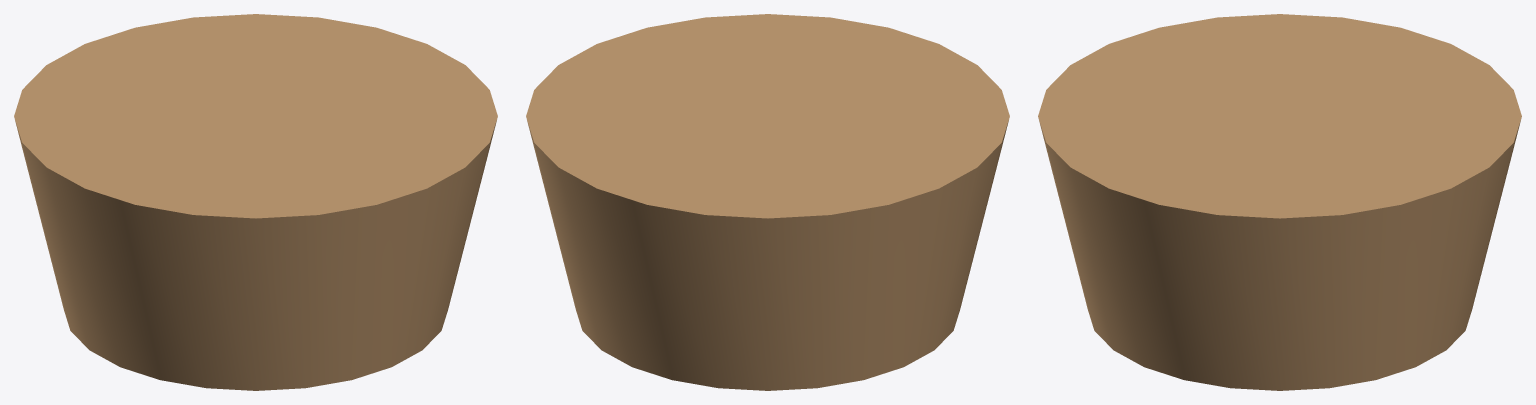
Rendered from jar_round_cork.obj.
3 views of the same model, side by side, from view 1: azimuth 30°, elevation 25°; view 2: azimuth 150°, elevation 25°; view 3: azimuth 270°, elevation 25° (orthographic).
Visible parts, largest first — view 1: jar_round_cork; view 2: jar_round_cork; view 3: jar_round_cork.
Part boxes in pixels (<box>): jar_round_cork: <box>14,14,497,390</box>; jar_round_cork: <box>526,14,1009,390</box>; jar_round_cork: <box>1038,14,1521,390</box>.
Bounding box in the file's own units: 0.068 × 0.03 × 0.068.
Materials: 1 (1 with a texture image).
